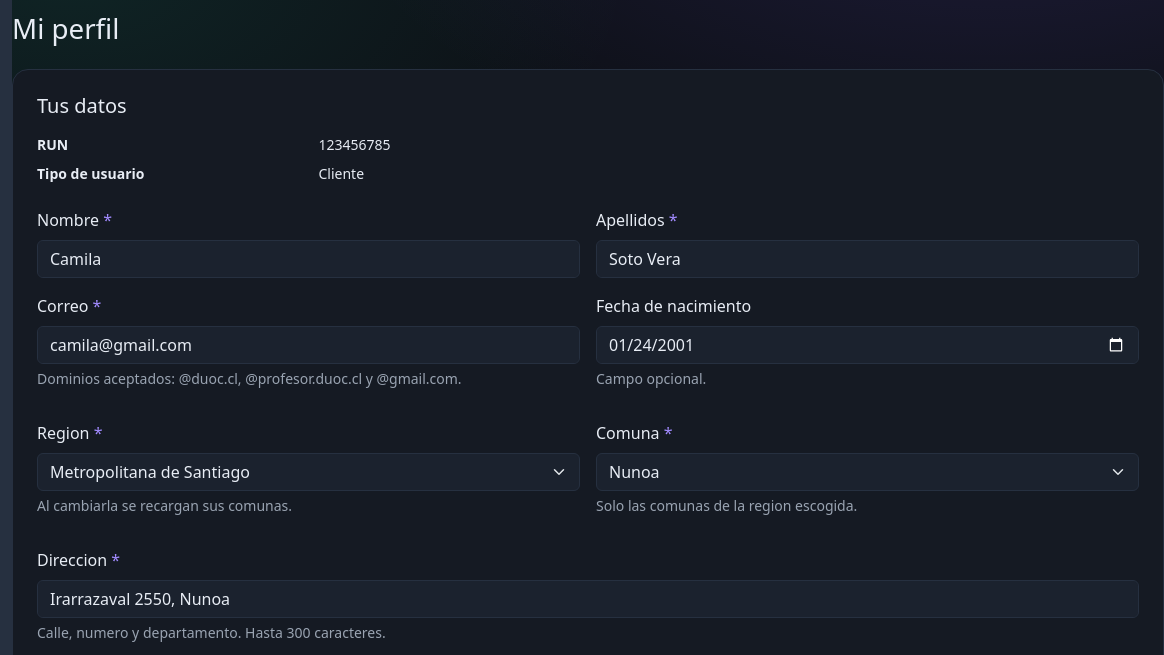
Test: Perfil › guardar actualiza la cuenta y la sesion, y la contrasena no cambia (RF-23 CA2 y CA3)
Replace the text in the field labelled "Nombre *" with "Camila Andrea". click: {"x": 308, "y": 259}
box: 37,240 -> 580,278
(page scrolled)
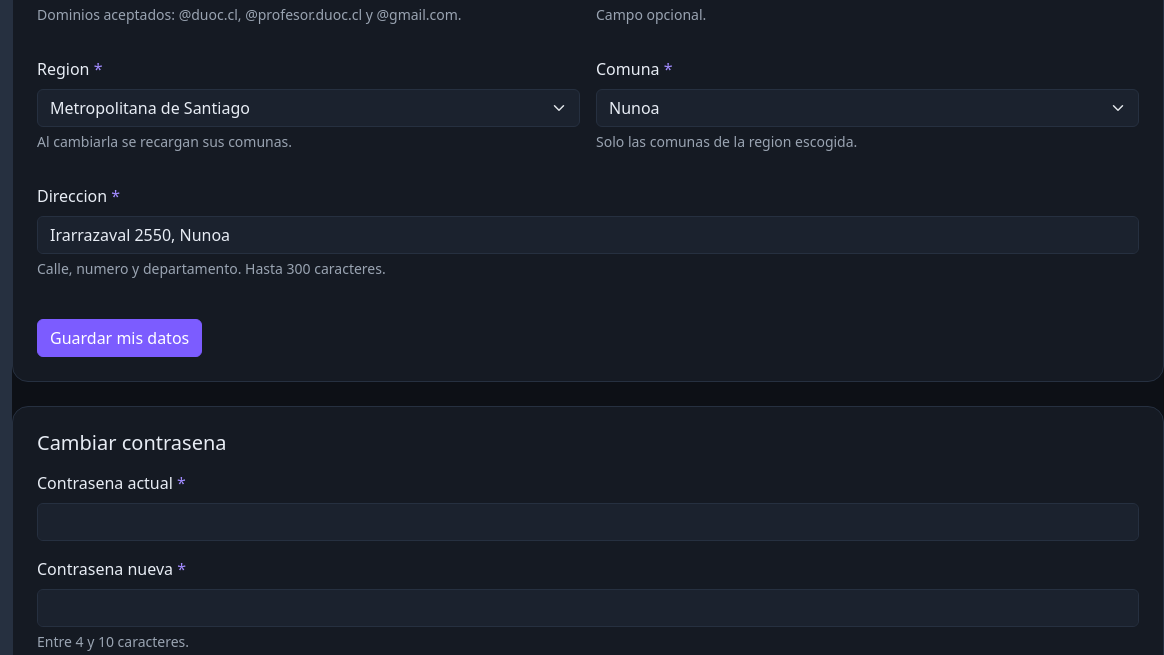
Click the button "Guardar mis datos". click: {"x": 120, "y": 338}
box: 37,319 -> 202,357
(page scrolled)
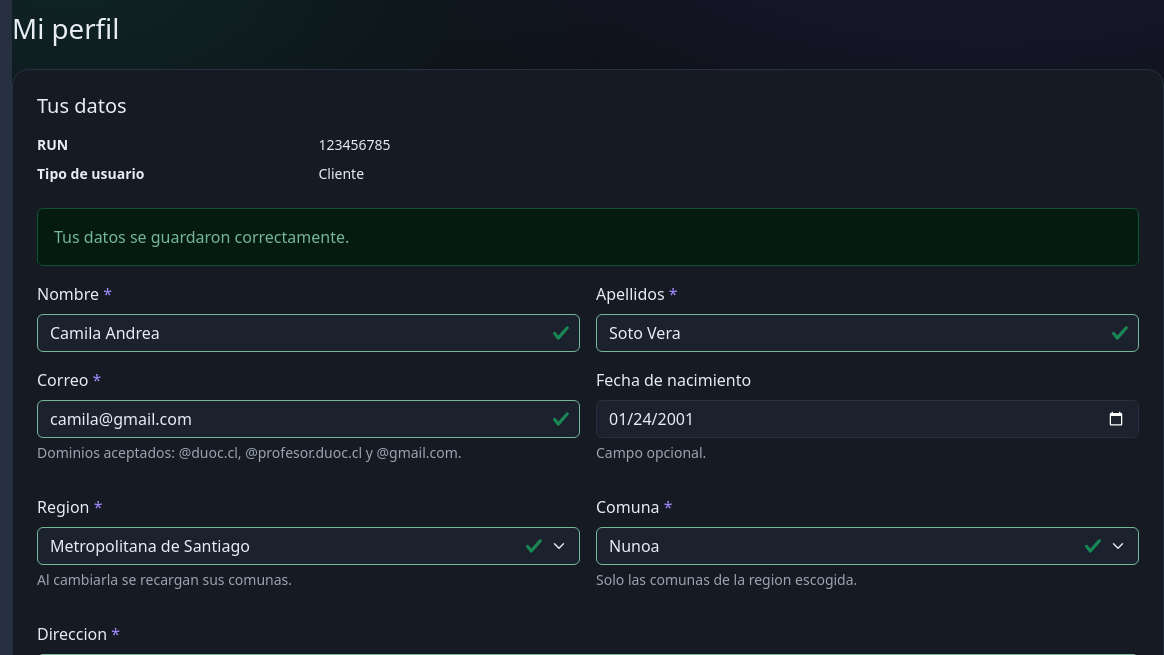
Expected: the text "Tus datos se guardaron correctamente." is shown, 37,208 -> 1139,266
